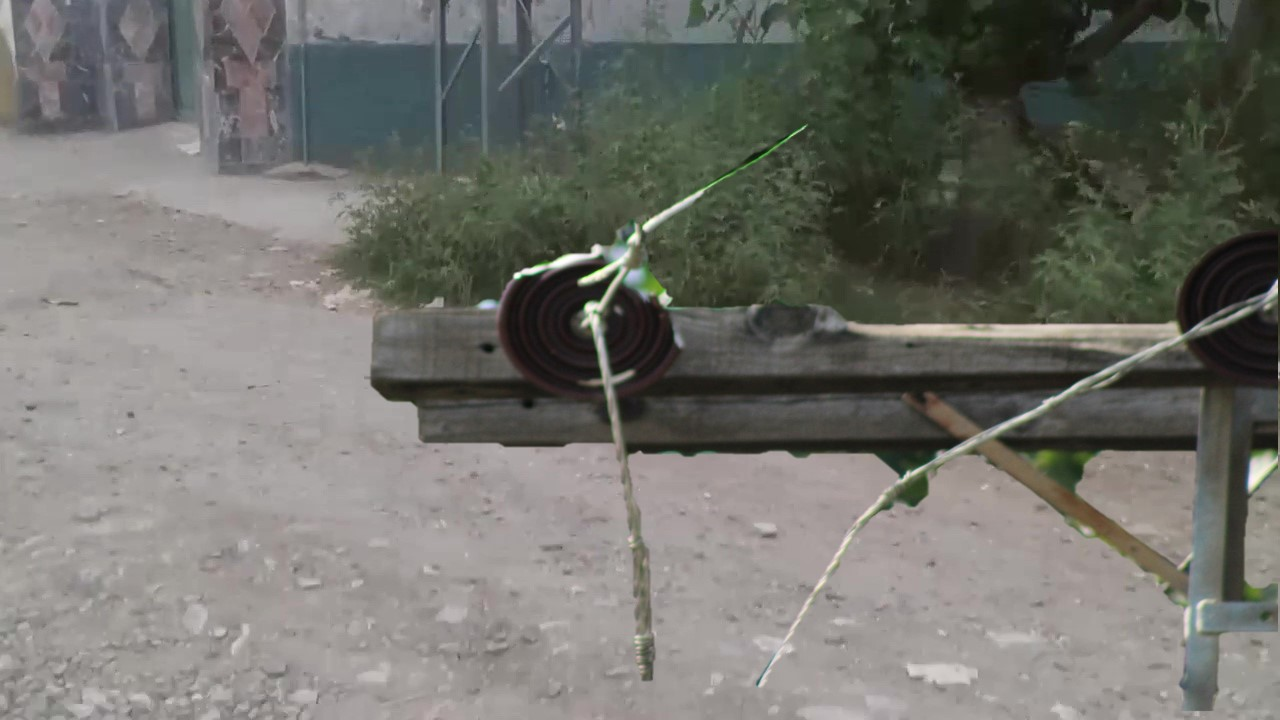defect_disc: (492, 240, 692, 414)
